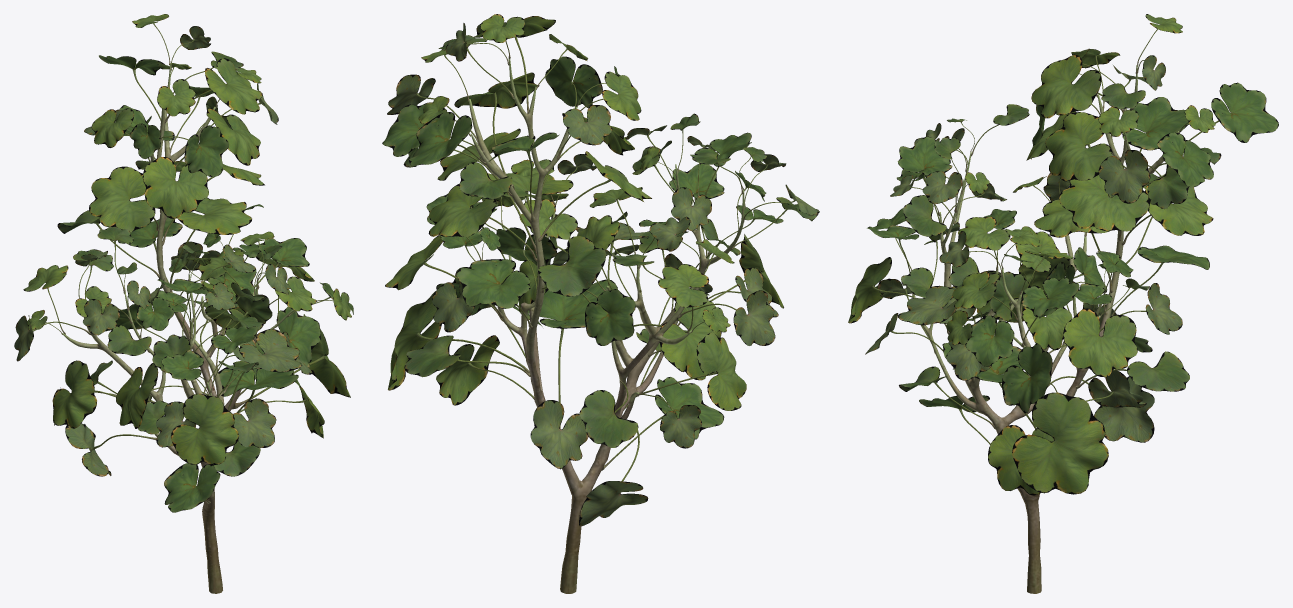
The model's file is interior-foliage.glb.
The picture shows the model from 3 angles, left to right: view 1: azimuth 30°, elevation 25°; view 2: azimuth 150°, elevation 25°; view 3: azimuth 270°, elevation 25°; orthographic projection. The views are drawn at different scales.
Visible parts, largest first — view 1: potted_plant_01_leaves, potted_plant_01_stem; view 2: potted_plant_01_leaves, potted_plant_01_stem; view 3: potted_plant_01_leaves, potted_plant_01_stem.
Boxes of the visible parts, bbox=[...] form: potted_plant_01_leaves: bbox=[14, 14, 353, 512]; potted_plant_01_stem: bbox=[62, 63, 293, 593]; potted_plant_01_leaves: bbox=[382, 14, 819, 526]; potted_plant_01_stem: bbox=[468, 58, 744, 593]; potted_plant_01_leaves: bbox=[848, 14, 1278, 495]; potted_plant_01_stem: bbox=[912, 65, 1178, 593].
Size of the model in its own units: 0.5874 by 0.9254 by 0.6336.
Materials: 2 (2 with a texture image).
